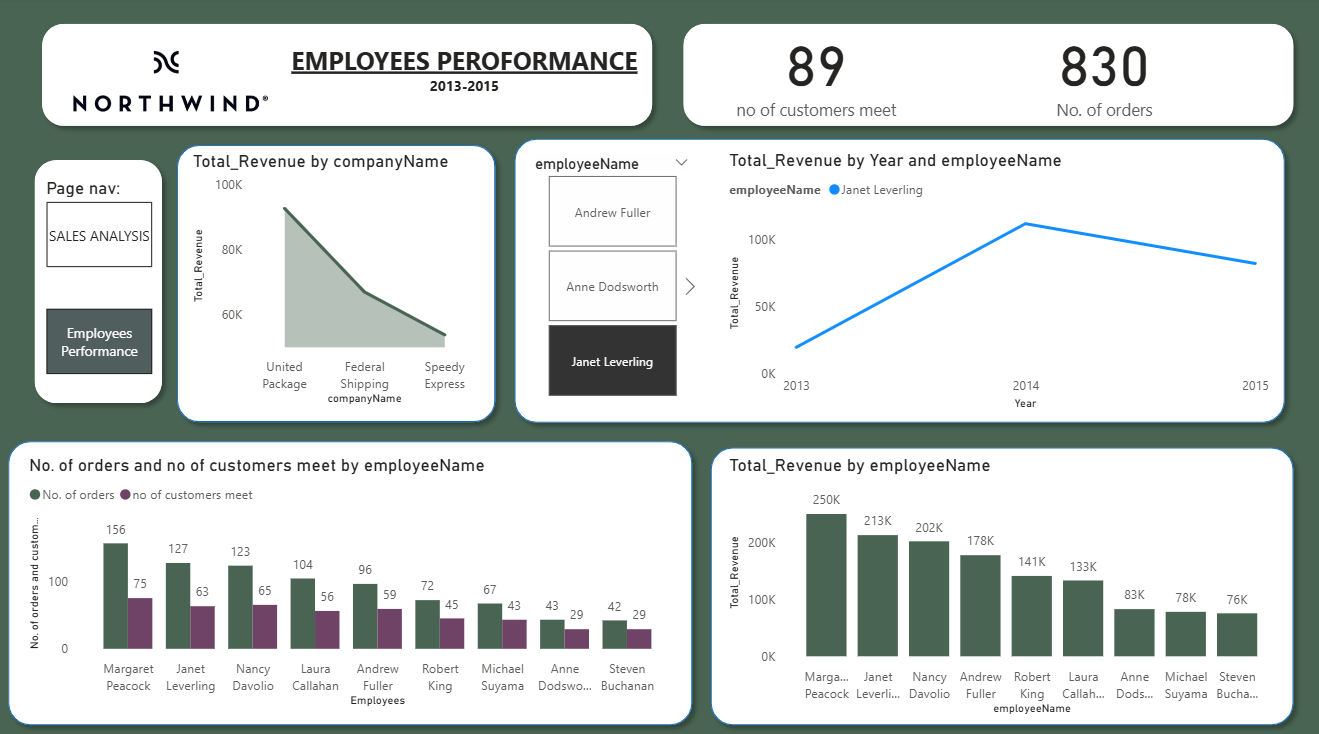

This screenshot's page, from the dashboard's own definition file:
{"tool":"powerbi","page":{"name":"Employees Performance","canvas":[1280,720],"ordinal":1},"visuals":[{"type":"shape","box":[678,425.9,580.3,285.9],"z":0},{"type":"shape","box":[163.3,134.5,325.2,285.4],"z":1000},{"type":"shape","box":[0,419.8,678,292],"z":2000},{"type":"shape","box":[33.1,17.2,606.9,116.5],"z":3000},{"type":"shape","box":[651,17.2,606.9,116.5],"z":4000},{"type":"image","box":[55.2,39.2,217,80.9],"z":5000},{"type":"textbox","box":[272.2,39.2,353.1,76],"z":6000},{"type":"clusteredColumnChart","fields":{"Category":["employees.employeeName"],"Y":["order_details.No. of orders","employees.no of deals"]},"box":[24.1,441.6,635.8,248.5],"z":7000},{"type":"columnChart","fields":{"Category":["employees.employeeName"],"Y":["order_details.Total_Revenue"]},"box":[699.7,441.6,540.5,255.8],"z":8000},{"type":"shape","box":[488.6,127.9,761.3,292],"z":10000},{"type":"slicer","fields":{"Values":["employees.employeeName"]},"box":[504.3,147.2,173.7,244.9],"z":11000},{"type":"lineChart","fields":{"Series":["employees.employeeName"],"Category":["orders.orderDate.Variation.Date Hierarchy.Year"],"Y":["order_details.Total_Revenue"]},"box":[699.7,147.2,530.8,255.8],"z":12000},{"type":"card","fields":{"Values":["employees.no of customers meet"]},"box":[699.7,20.5,178.6,100.1],"z":13000},{"type":"card","fields":{"Values":["order_details.No. of orders"]},"box":[988.1,16.9,158,107.4],"z":14000},{"type":"shape","box":[25.7,148.4,141,252.6],"z":15000},{"type":"pageNavigator","title":"Page nav:","box":[45.8,173.7,102.5,191.8],"z":16000},{"type":"areaChart","fields":{"Category":["shippers.companyName"],"Y":["order_details.Total_Revenue"]},"box":[182.5,148.2,288.2,249.7],"z":16001}]}

Visuals, with their boxes in screenshot pixels (x1, y1, x2, y2), scaled from the page's 1280x720 canvas onto the 1319x734 screenshot:
shape: l=699, t=434, r=1297, b=726
shape: l=168, t=137, r=503, b=428
shape: l=0, t=428, r=699, b=726
shape: l=34, t=18, r=660, b=136
shape: l=671, t=18, r=1296, b=136
image: l=57, t=40, r=280, b=122
textbox: l=280, t=40, r=644, b=117
clusteredColumnChart - employees.employeeName x order_details.No. of orders: l=25, t=450, r=680, b=704
columnChart - employees.employeeName x order_details.Total_Revenue: l=721, t=450, r=1278, b=711
shape: l=503, t=130, r=1288, b=428
slicer - employees.employeeName: l=520, t=150, r=699, b=400
lineChart - employees.employeeName x orders.orderDate.Variation.Date Hierarchy.Year: l=721, t=150, r=1268, b=411
card - employees.no of customers meet: l=721, t=21, r=905, b=123
card - order_details.No. of orders: l=1018, t=17, r=1181, b=127
shape: l=26, t=151, r=172, b=409
"Page nav:" pageNavigator: l=47, t=177, r=153, b=373
areaChart - shippers.companyName x order_details.Total_Revenue: l=188, t=151, r=485, b=406
